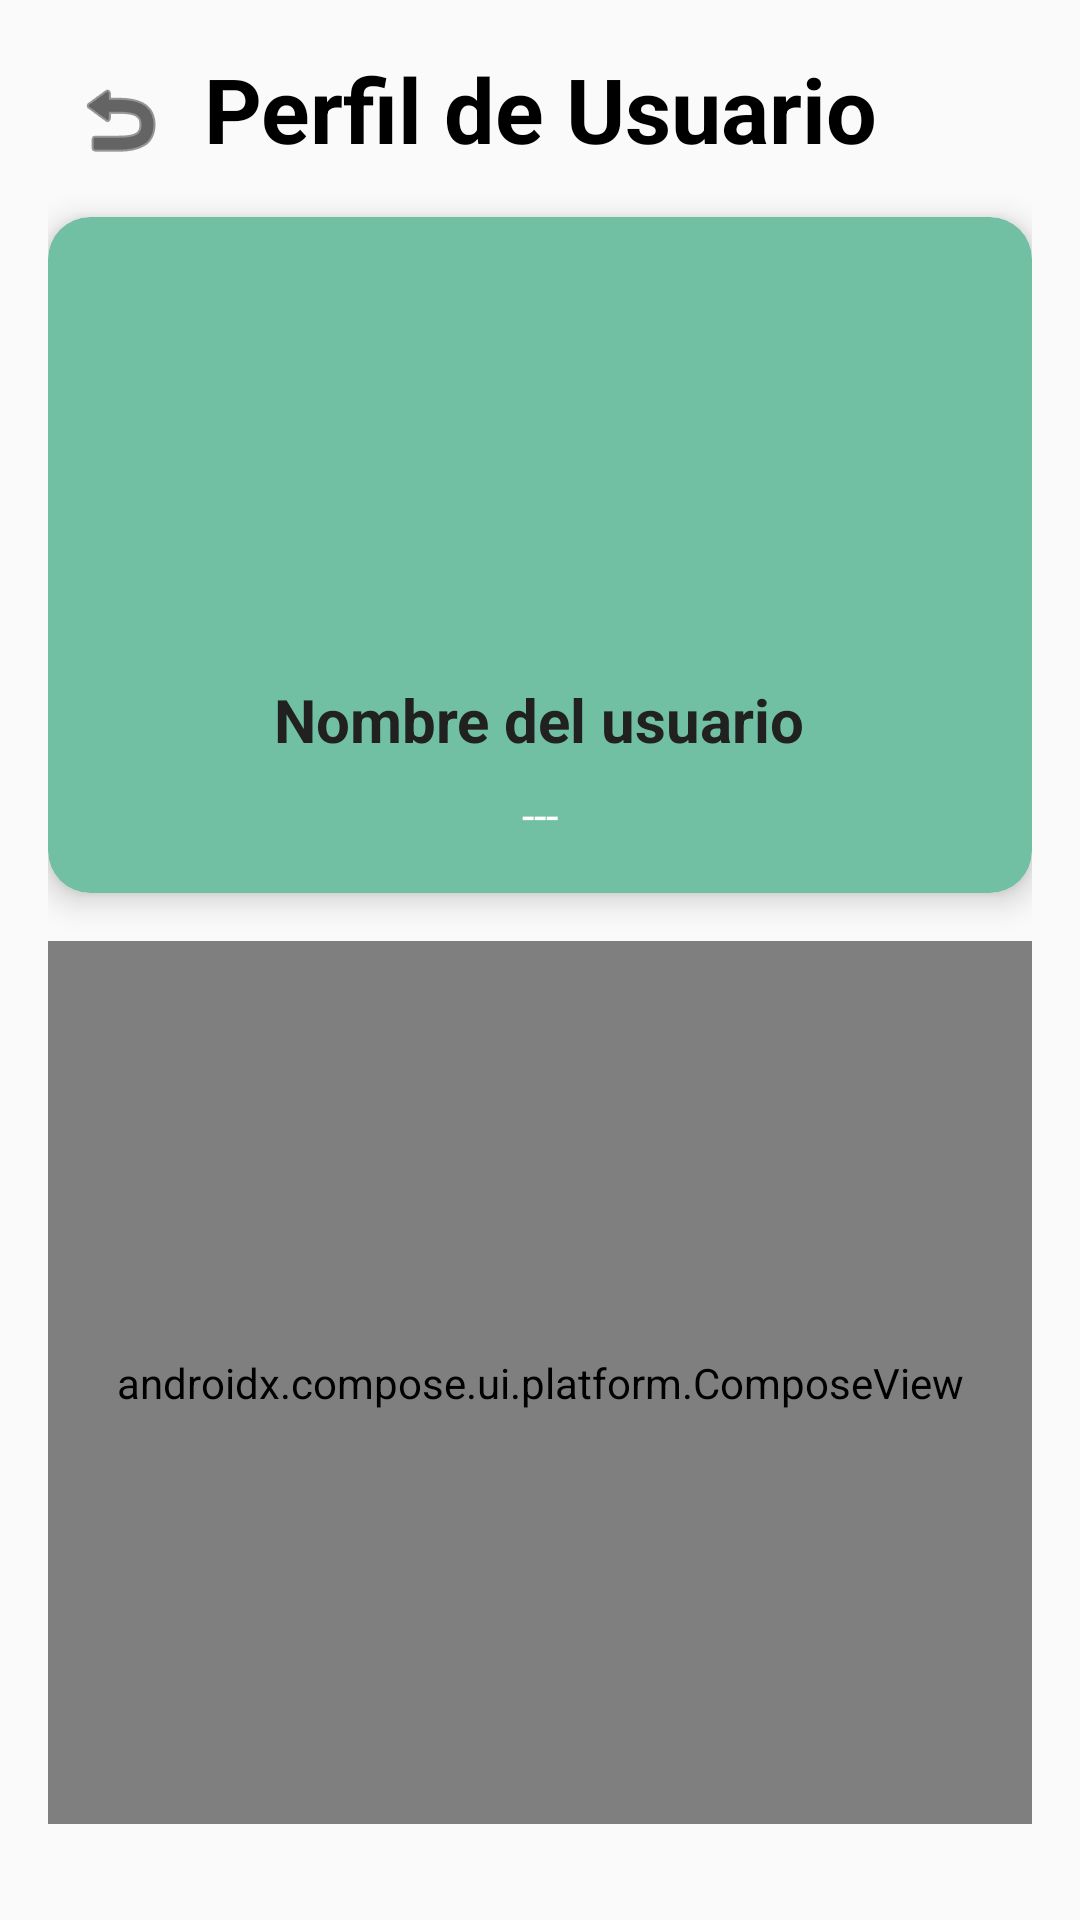

Icons on this 1080x1920 Android screen, each with the point to tap as point (x, y):
Volver: point (121, 120)
